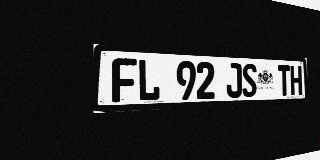2: (196, 61, 214, 99)
9: (176, 60, 196, 100)
F: (112, 58, 137, 103)
H: (290, 65, 302, 95)
J: (226, 63, 242, 98)
L: (137, 59, 160, 102)
S: (242, 63, 257, 97)
T: (278, 65, 290, 96)
